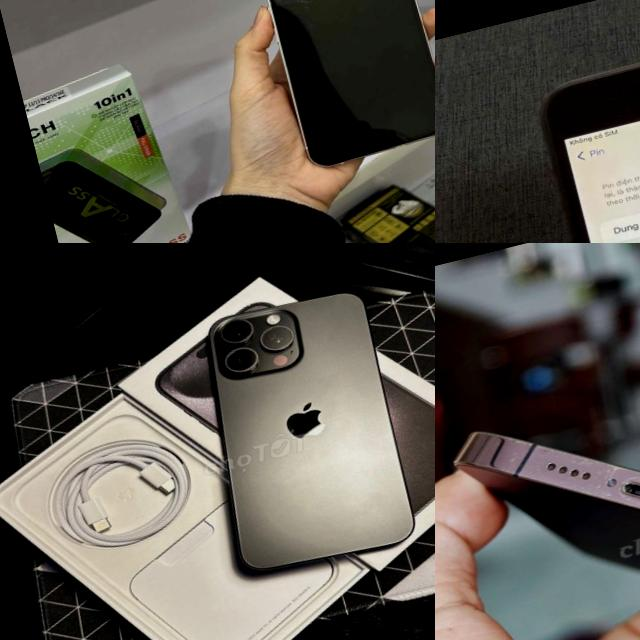scratch: (550, 423, 640, 549), (499, 436, 540, 470)
